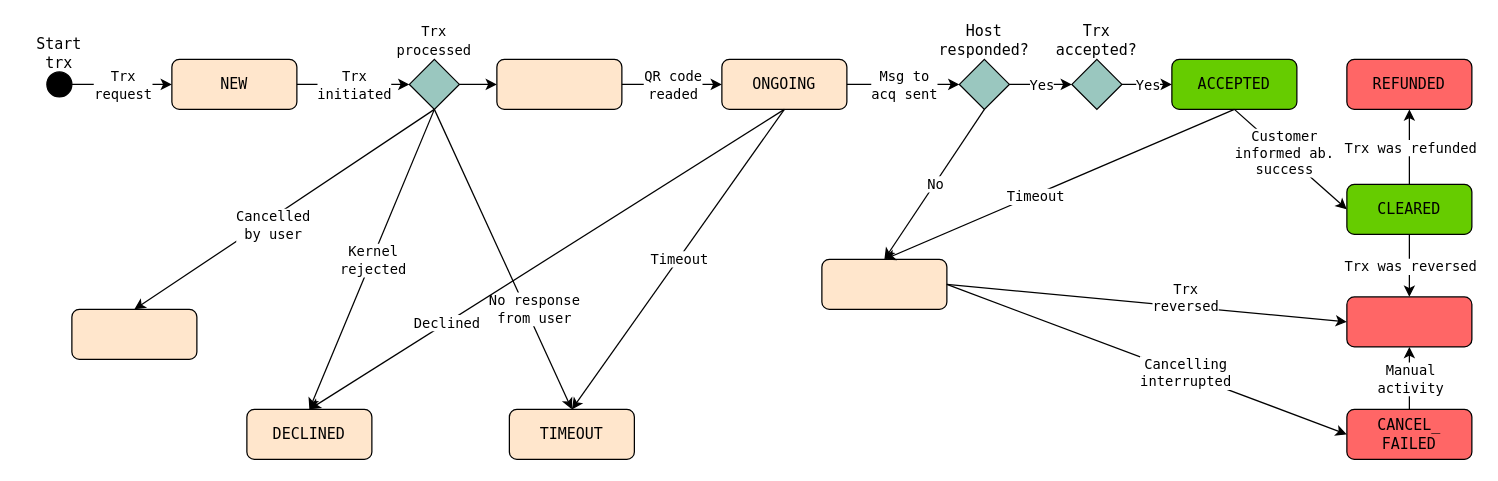
Image size: 1498x481. Some labels were removed from this diagram. The centre of each missing label's shape, as x and y in pixels:
"CANCELLED" goes at point (1409, 321).
"CANCELLING" goes at point (884, 283).
"CHECKINED" goes at point (559, 83).
"USER_ CANCELLED" goes at point (134, 333).
